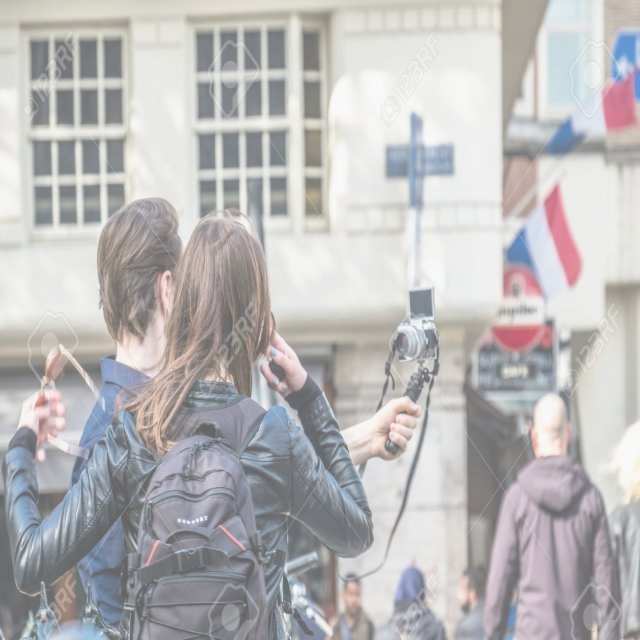pessoa: (0, 212, 374, 640), (71, 203, 422, 636), (485, 392, 620, 640), (603, 418, 640, 640), (368, 562, 454, 640), (330, 572, 379, 640), (453, 566, 488, 640), (503, 572, 519, 640)
